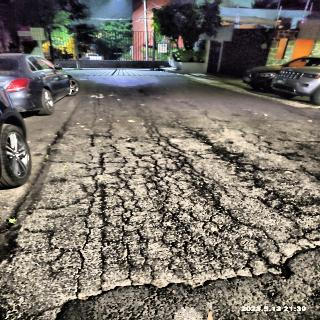alligator-crack: (66, 108, 314, 318)
